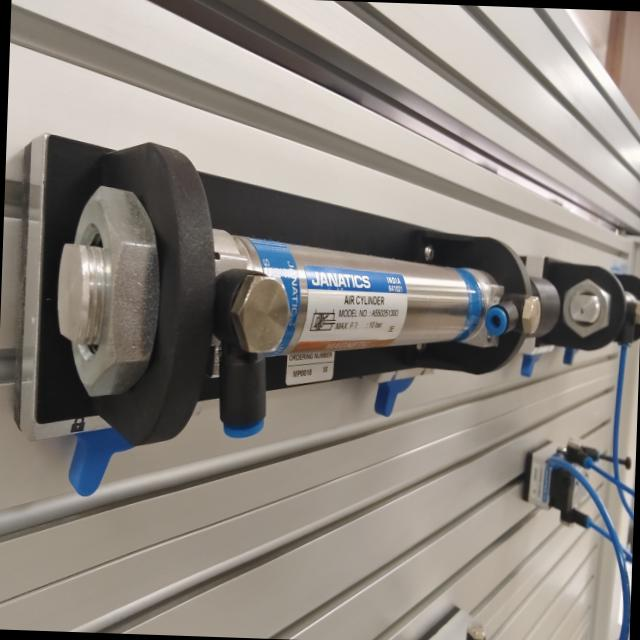double acting pneumatic cylinder: (17, 97, 571, 526)
